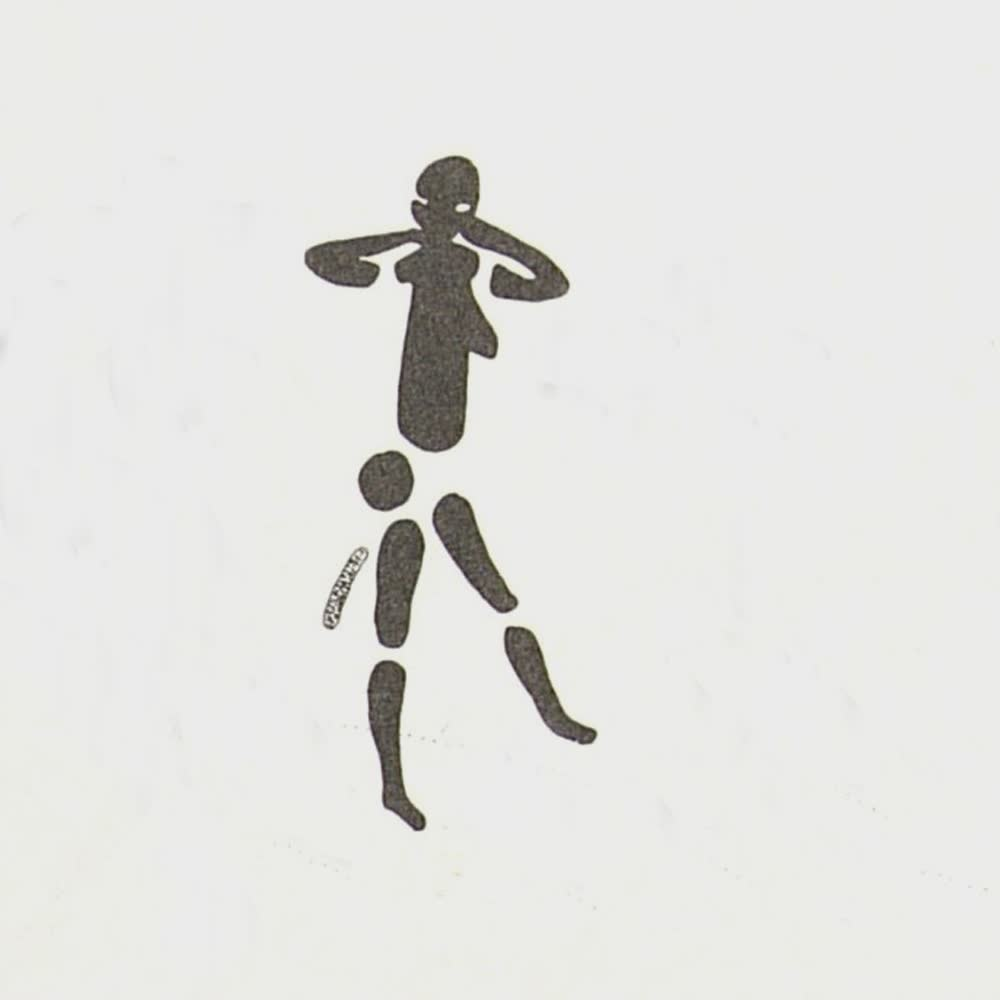woman: (299, 152, 601, 834)
